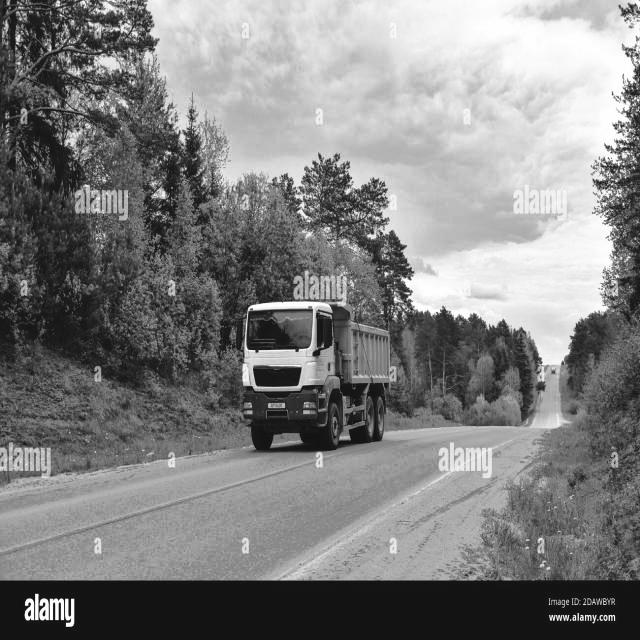HCV: (232, 187, 420, 485)
